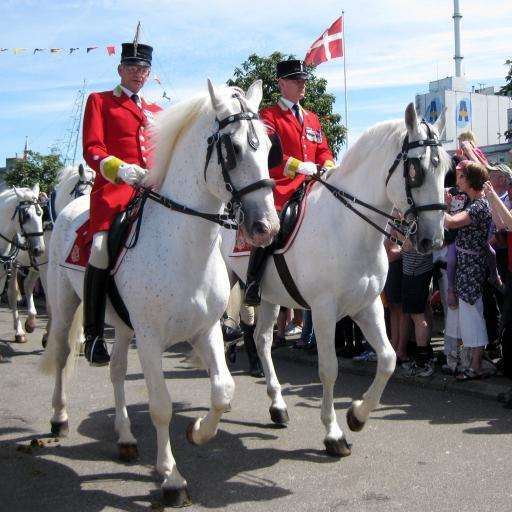horse: (32, 77, 280, 506), (183, 102, 454, 458), (8, 162, 95, 348), (0, 183, 45, 298)
